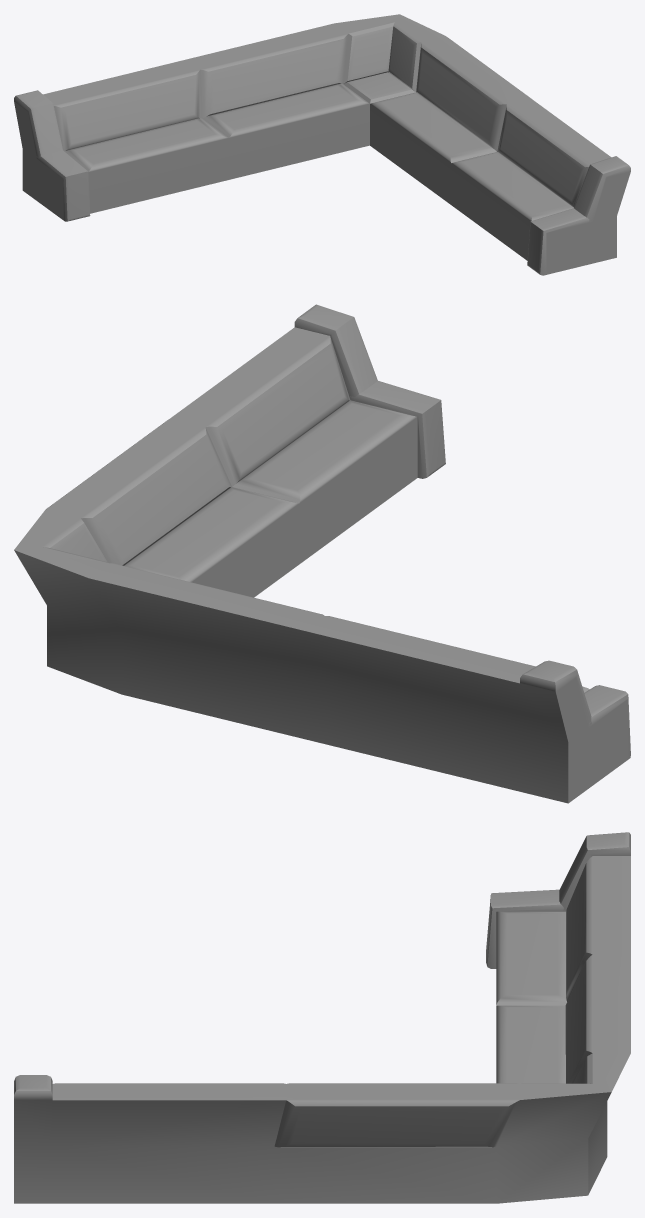
File: Commons_Couch.fbx
The picture shows the model from 3 angles, top to bottom: view 1: azimuth 30°, elevation 25°; view 2: azimuth 150°, elevation 25°; view 3: azimuth 270°, elevation 25°; orthographic projection. The views are drawn at different scales.
Parts seen in each view (by area): view 1: Commons_Couch; view 2: Commons_Couch; view 3: Commons_Couch.
Part boxes in pixels (x1,y1,x2,y2): Commons_Couch: (14, 14, 630, 275); Commons_Couch: (14, 304, 630, 803); Commons_Couch: (14, 832, 630, 1203).
Bounding box in the file's own units: 1397 × 304 × 1391.
